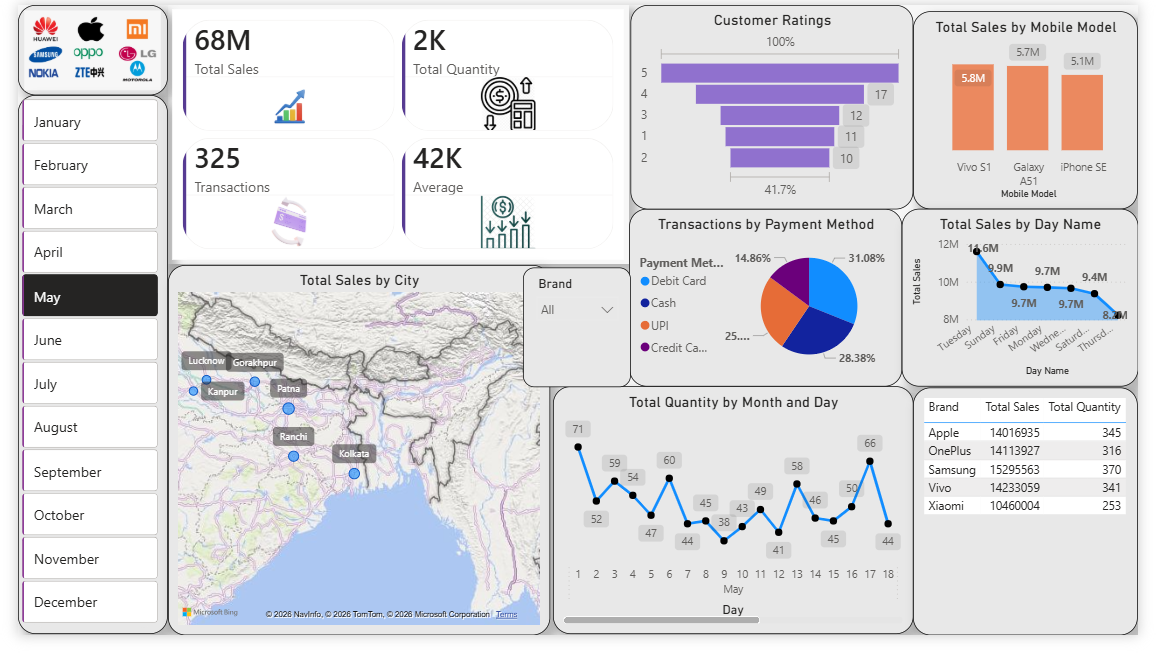

Layout of this report page (visuals, bound fields, positions):
{"tool":"powerbi","page":{"name":"Page 1","canvas":[1280,720],"ordinal":0},"visuals":[{"type":"shape","box":[0,0,171.4,102.9],"z":0},{"type":"image","box":[7.1,1.4,155.7,101.4],"z":1000},{"type":"shape","box":[0,102.9,171.4,615.7],"z":2000},{"type":"advancedSlicerVisual","fields":{"Values":["Sales_Data.Date.Variation.Date Hierarchy.Month"]},"box":[0,102.9,165.7,615.7],"z":3000},{"type":"cardVisual","fields":{"Data":["Sales_Data.Total Sales","Sales_Data.Total Quantity","Sales_Data.Transactions","Sales_Data.Average"]},"box":[172,0,526,296],"z":4000},{"type":"map","fields":{"Category":["Sales_Data.City"],"Size":["Sales_Data.Total Sales"]},"box":[171.7,296.7,436.7,423.3],"z":5000},{"type":"lineChart","fields":{"Category":["Sales_Data.Date.Variation.Date Hierarchy.Month","Sales_Data.Date.Variation.Date Hierarchy.Day"],"Y":["Sales_Data.Total Quantity"]},"box":[611.7,435,411.7,283.3],"z":6000},{"type":"clusteredColumnChart","fields":{"Category":["Sales_Data.Mobile Model"],"Y":["Sales_Data.Total Sales"]},"box":[1023.3,6.7,256.7,226.7],"z":7000},{"type":"pieChart","fields":{"Y":["Sales_Data.Transactions"],"Category":["Sales_Data.Payment Method"]},"box":[698.3,233.3,311.7,203.3],"z":8000},{"type":"funnel","title":"Customer Ratings","fields":{"Category":["Sales_Data.Customer Ratings"],"Y":["CountNonNull(Sales_Data.Customer Ratings)"]},"box":[700,0,323.3,233.3],"z":9000},{"type":"areaChart","fields":{"Category":["Sales_Data.Day Name"],"Y":["Sales_Data.Total Sales"]},"box":[1010,233.3,270,203.3],"z":10000},{"type":"tableEx","fields":{"Values":["Sales_Data.Brand","Sales_Data.Total Sales","Sales_Data.Total Quantity"]},"box":[1023.3,436.7,256.7,283.3],"z":11000},{"type":"slicer","fields":{"Values":["Sales_Data.Brand"]},"box":[576.7,300,123.3,136.7],"z":12000}]}

Visuals, with their boxes in screenshot pixels (x1, y1, x2, y2), scaled from the page's 1280x720 canvas onto the 1176x653 screenshot:
shape: 0 0 157 93
image: 7 1 150 93
shape: 0 93 157 652
advancedSlicerVisual - Sales_Data.Date.Variation.Date Hierarchy.Month: 0 93 152 652
cardVisual - Sales_Data.Total Sales x Sales_Data.Total Quantity: 158 0 641 268
map - Sales_Data.City x Sales_Data.Total Sales: 158 269 559 652
lineChart - Sales_Data.Date.Variation.Date Hierarchy.Month x Sales_Data.Date.Variation.Date Hierarchy.Day: 562 395 940 651
clusteredColumnChart - Sales_Data.Mobile Model x Sales_Data.Total Sales: 940 6 1175 212
pieChart - Sales_Data.Transactions x Sales_Data.Payment Method: 642 212 928 396
"Customer Ratings" funnel: 643 0 940 212
areaChart - Sales_Data.Day Name x Sales_Data.Total Sales: 928 212 1175 396
tableEx - Sales_Data.Brand x Sales_Data.Total Sales: 940 396 1175 652
slicer - Sales_Data.Brand: 530 272 643 396
